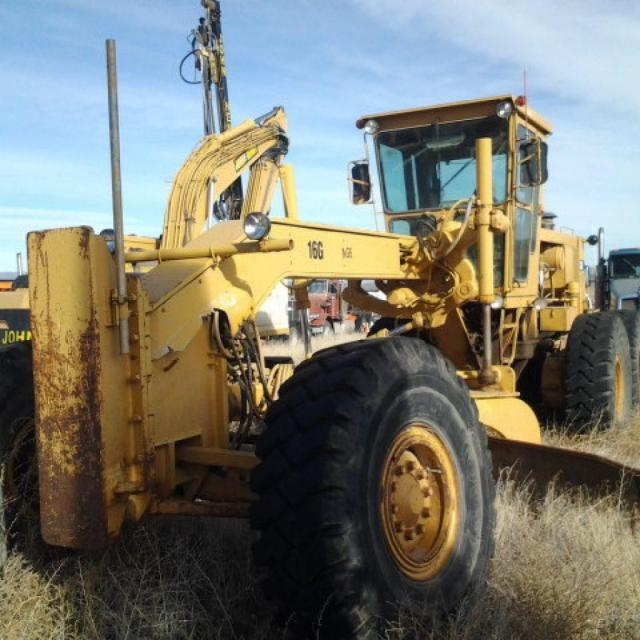Grader: (35, 61, 640, 621)
